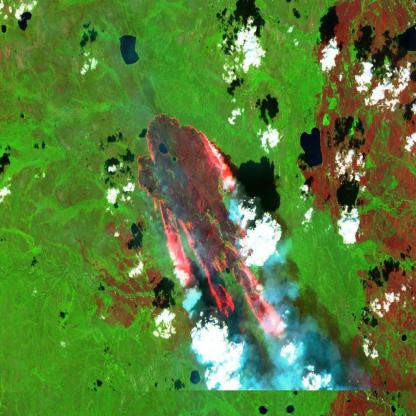fire: (135, 108, 293, 346)
